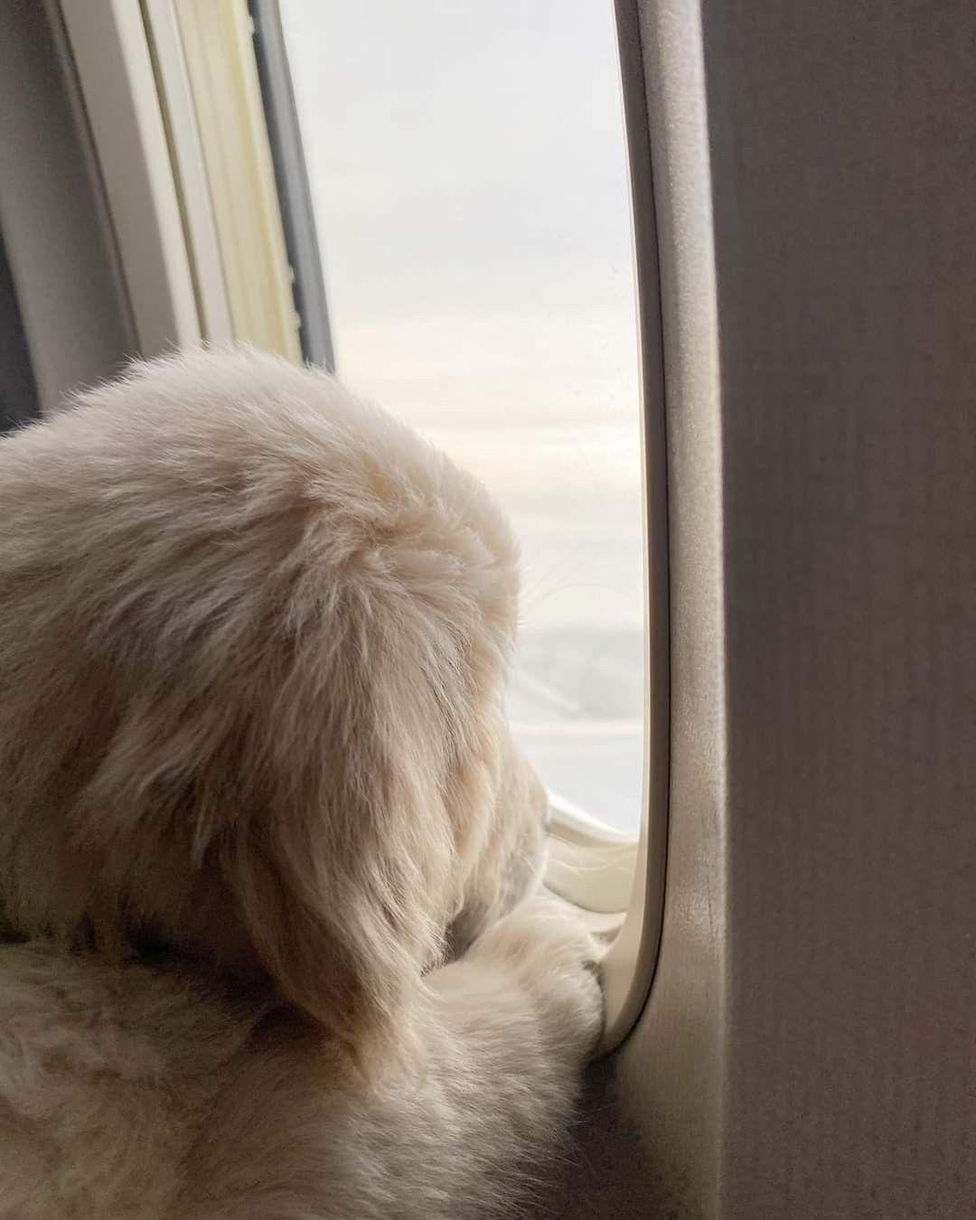puppy-dog: (1, 346, 605, 1220)
